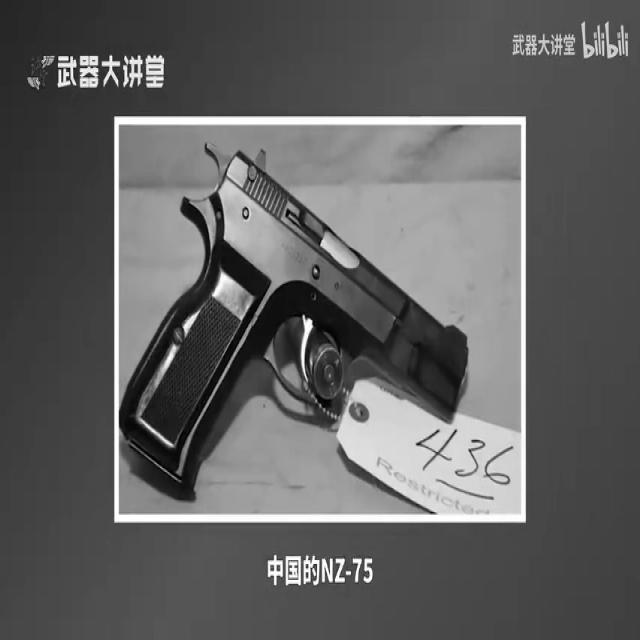Hand-Gun: (119, 116, 531, 538)
